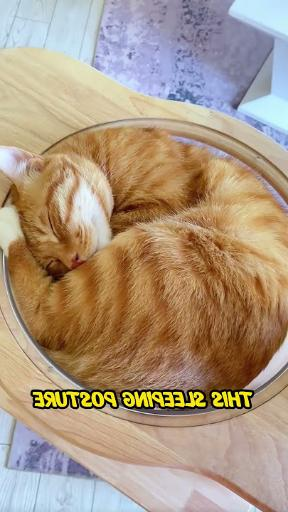cat_sleeping: (1, 123, 288, 395)
